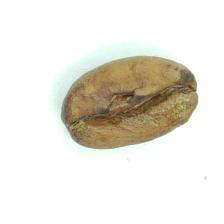NG: (70, 69, 197, 130)
